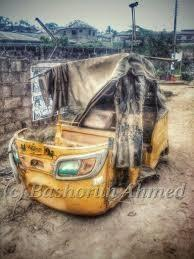keke: (1, 47, 176, 232)
